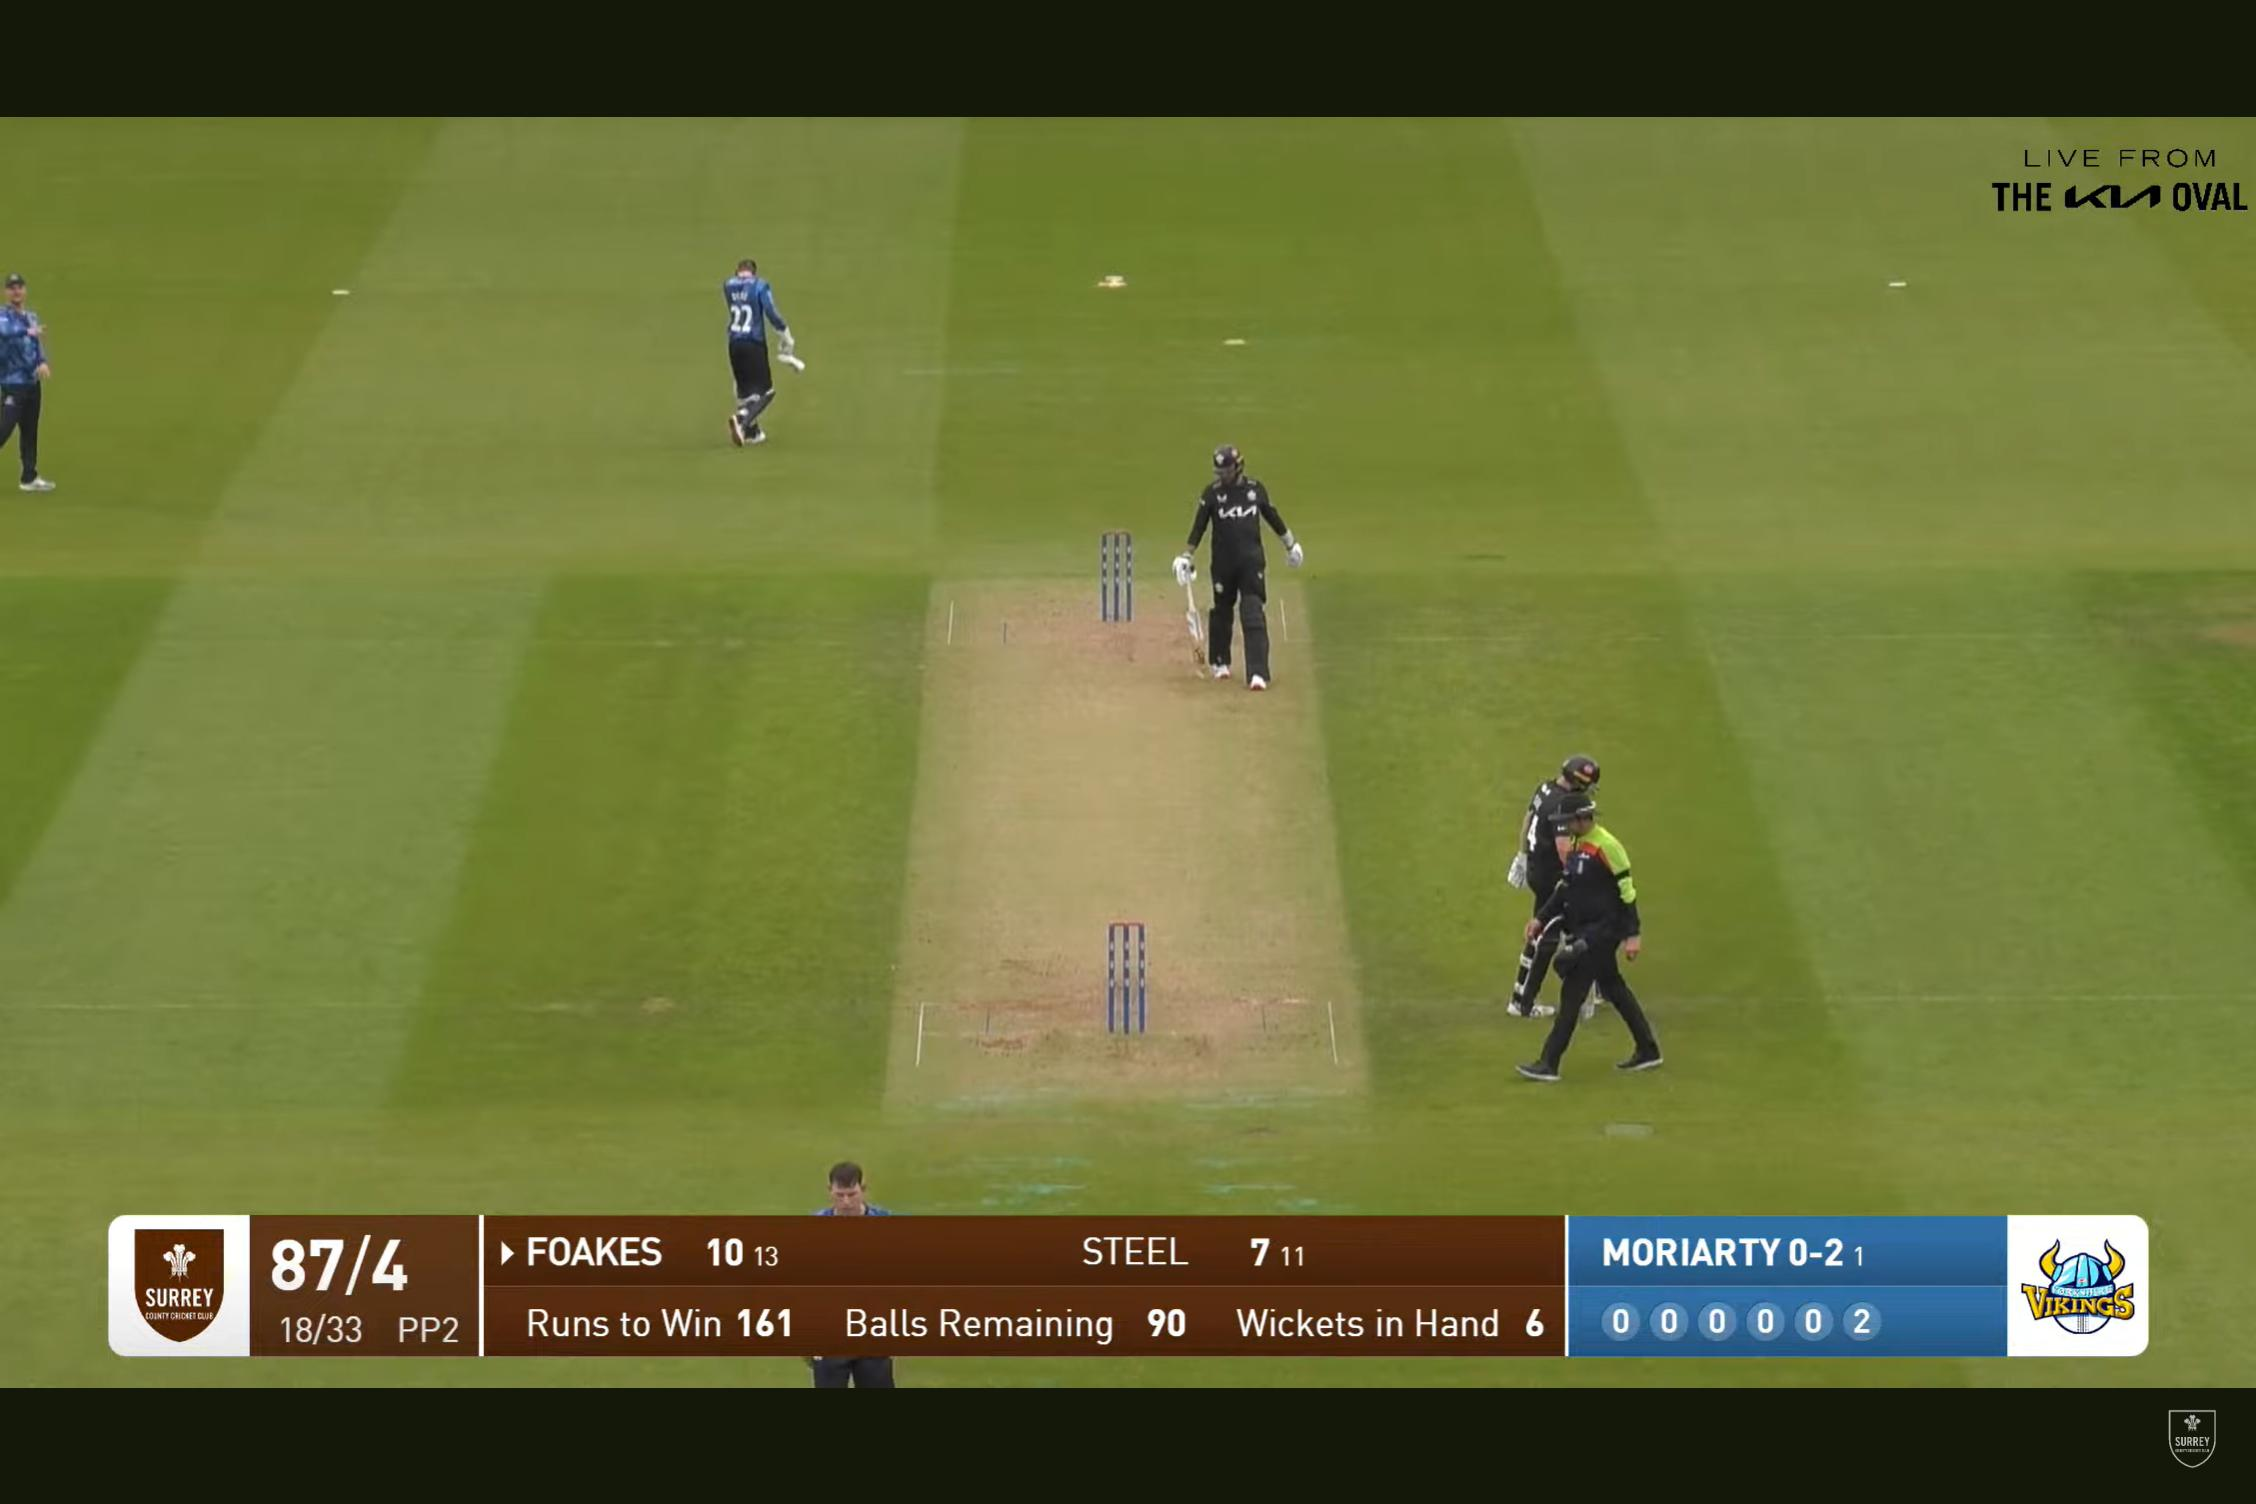batsman: (1165, 421, 1328, 710)
stumps: (1086, 903, 1180, 1073), (1071, 525, 1150, 648)
umpire: (1526, 792, 1667, 1096)
wicket keeper: (698, 222, 828, 470)
